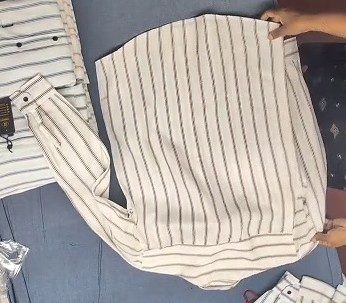SHIRT: (0, 97, 340, 278)
